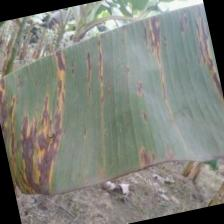sigatoka: (0, 1, 224, 201)
